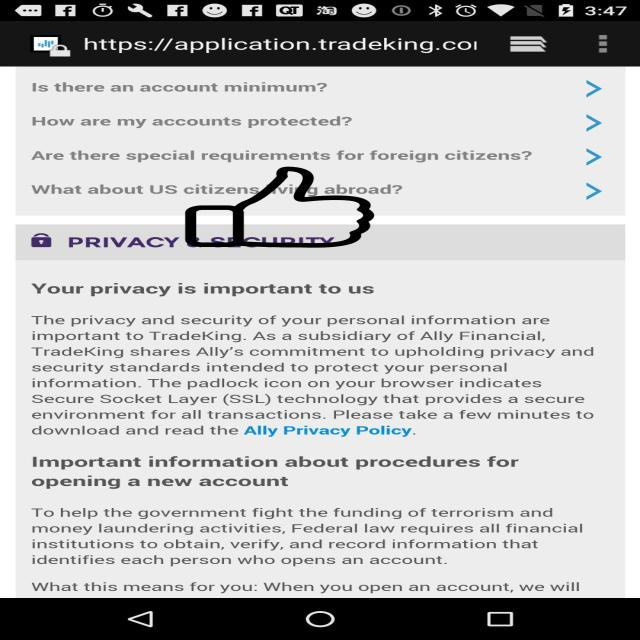privacy zuckering: (182, 166, 377, 248)
